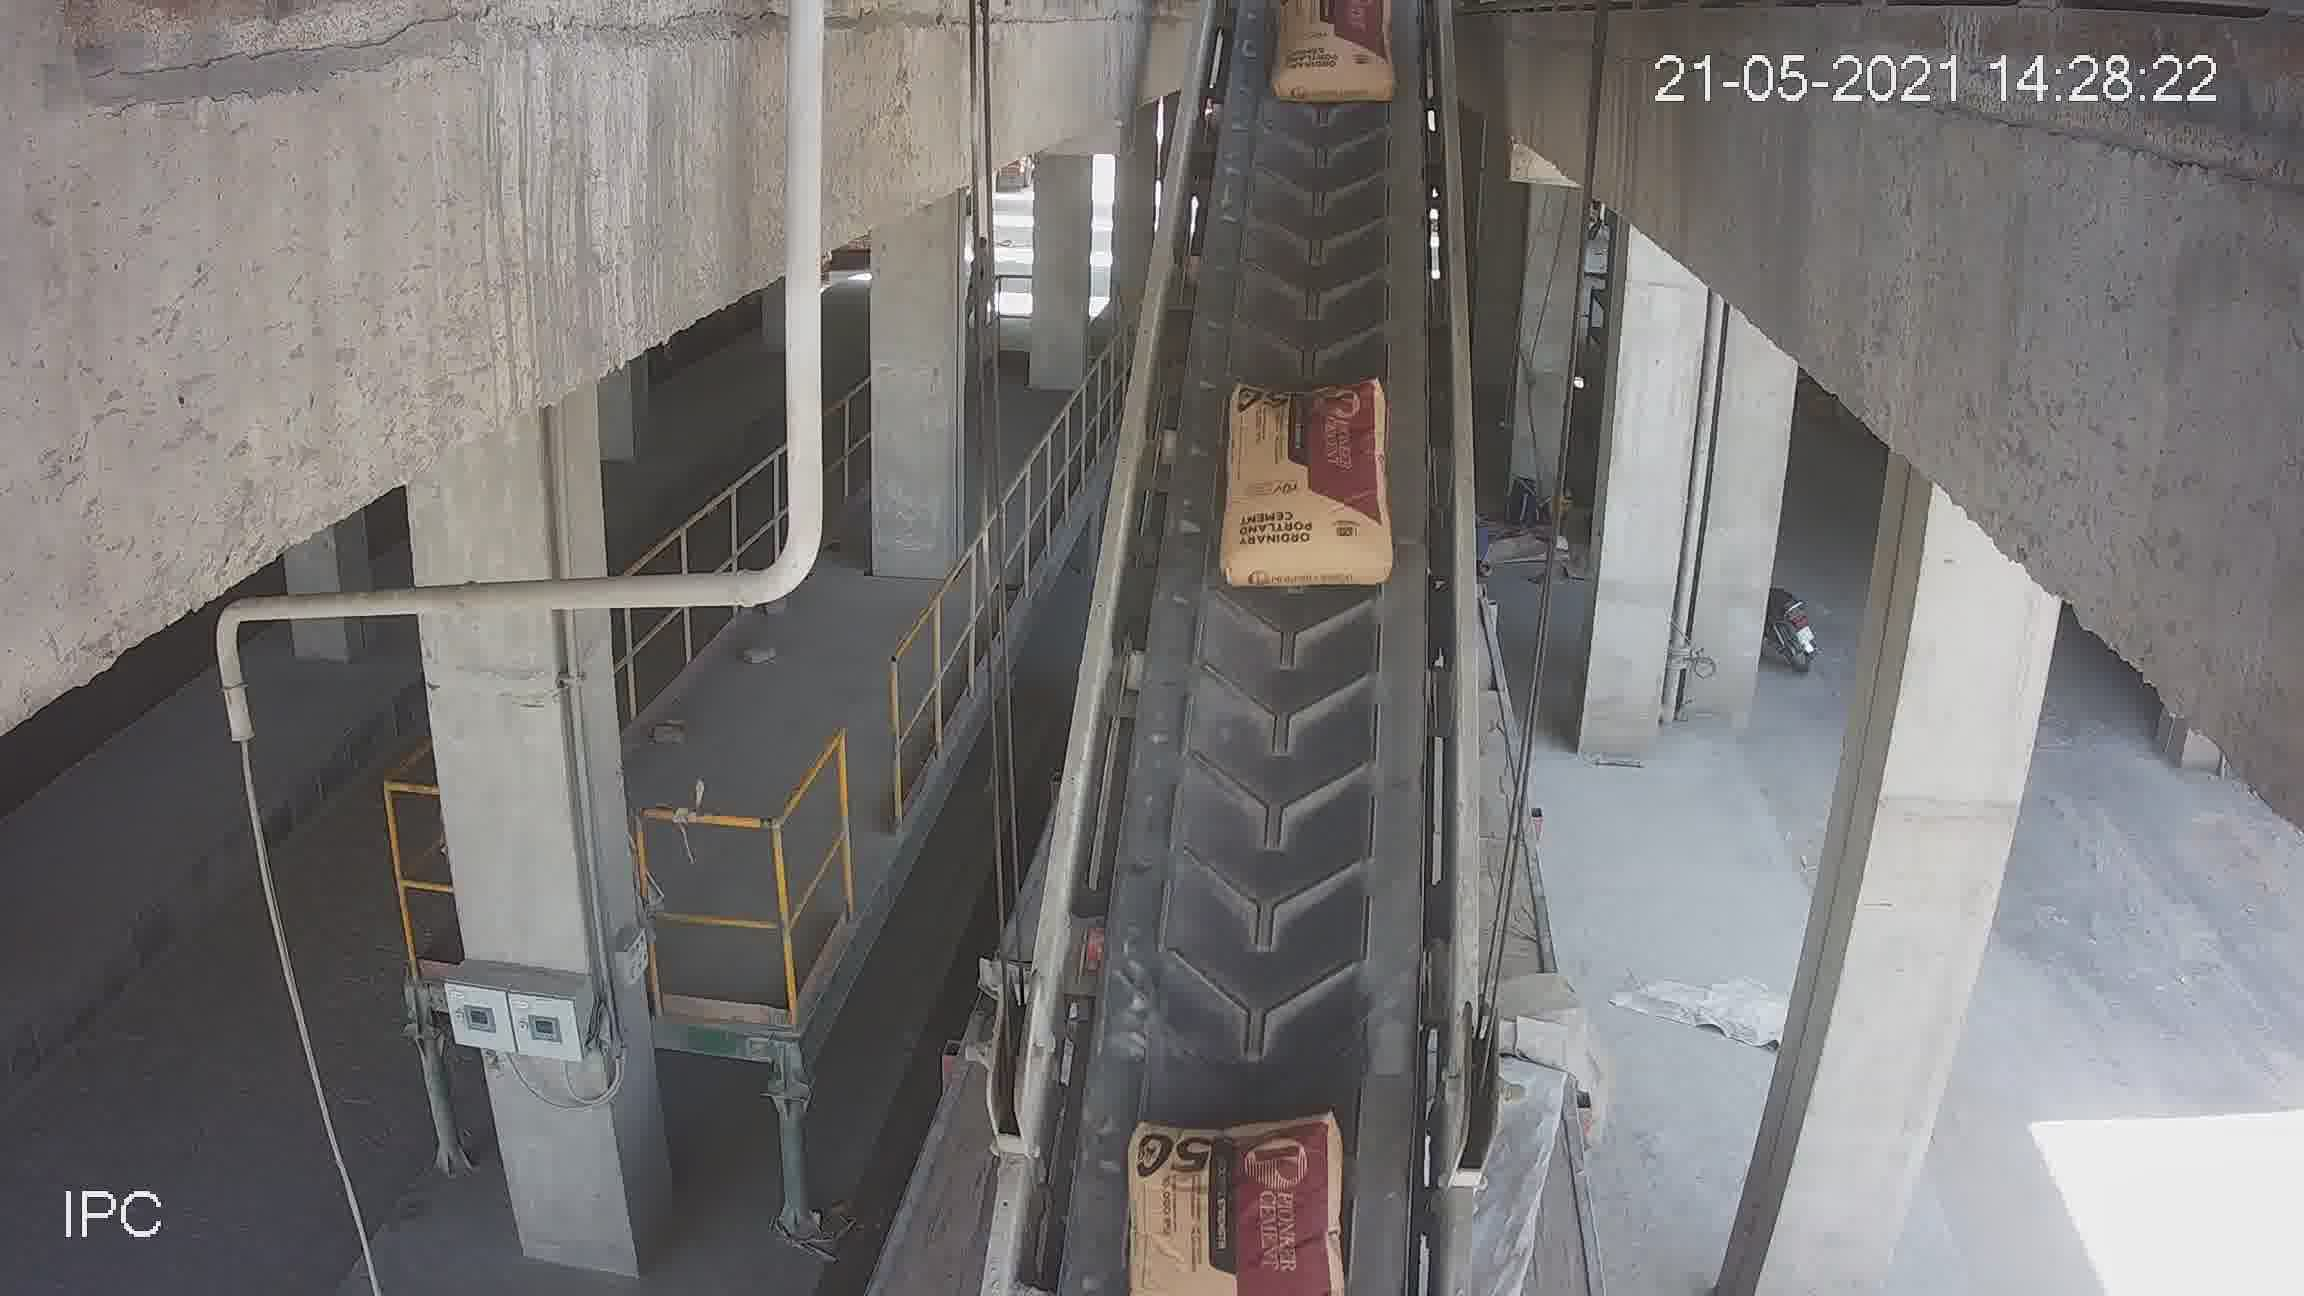bag: (1234, 381, 1389, 597), (1135, 1117, 1342, 1264), (1275, 9, 1383, 92)
belt: (1048, 30, 1487, 1282)
